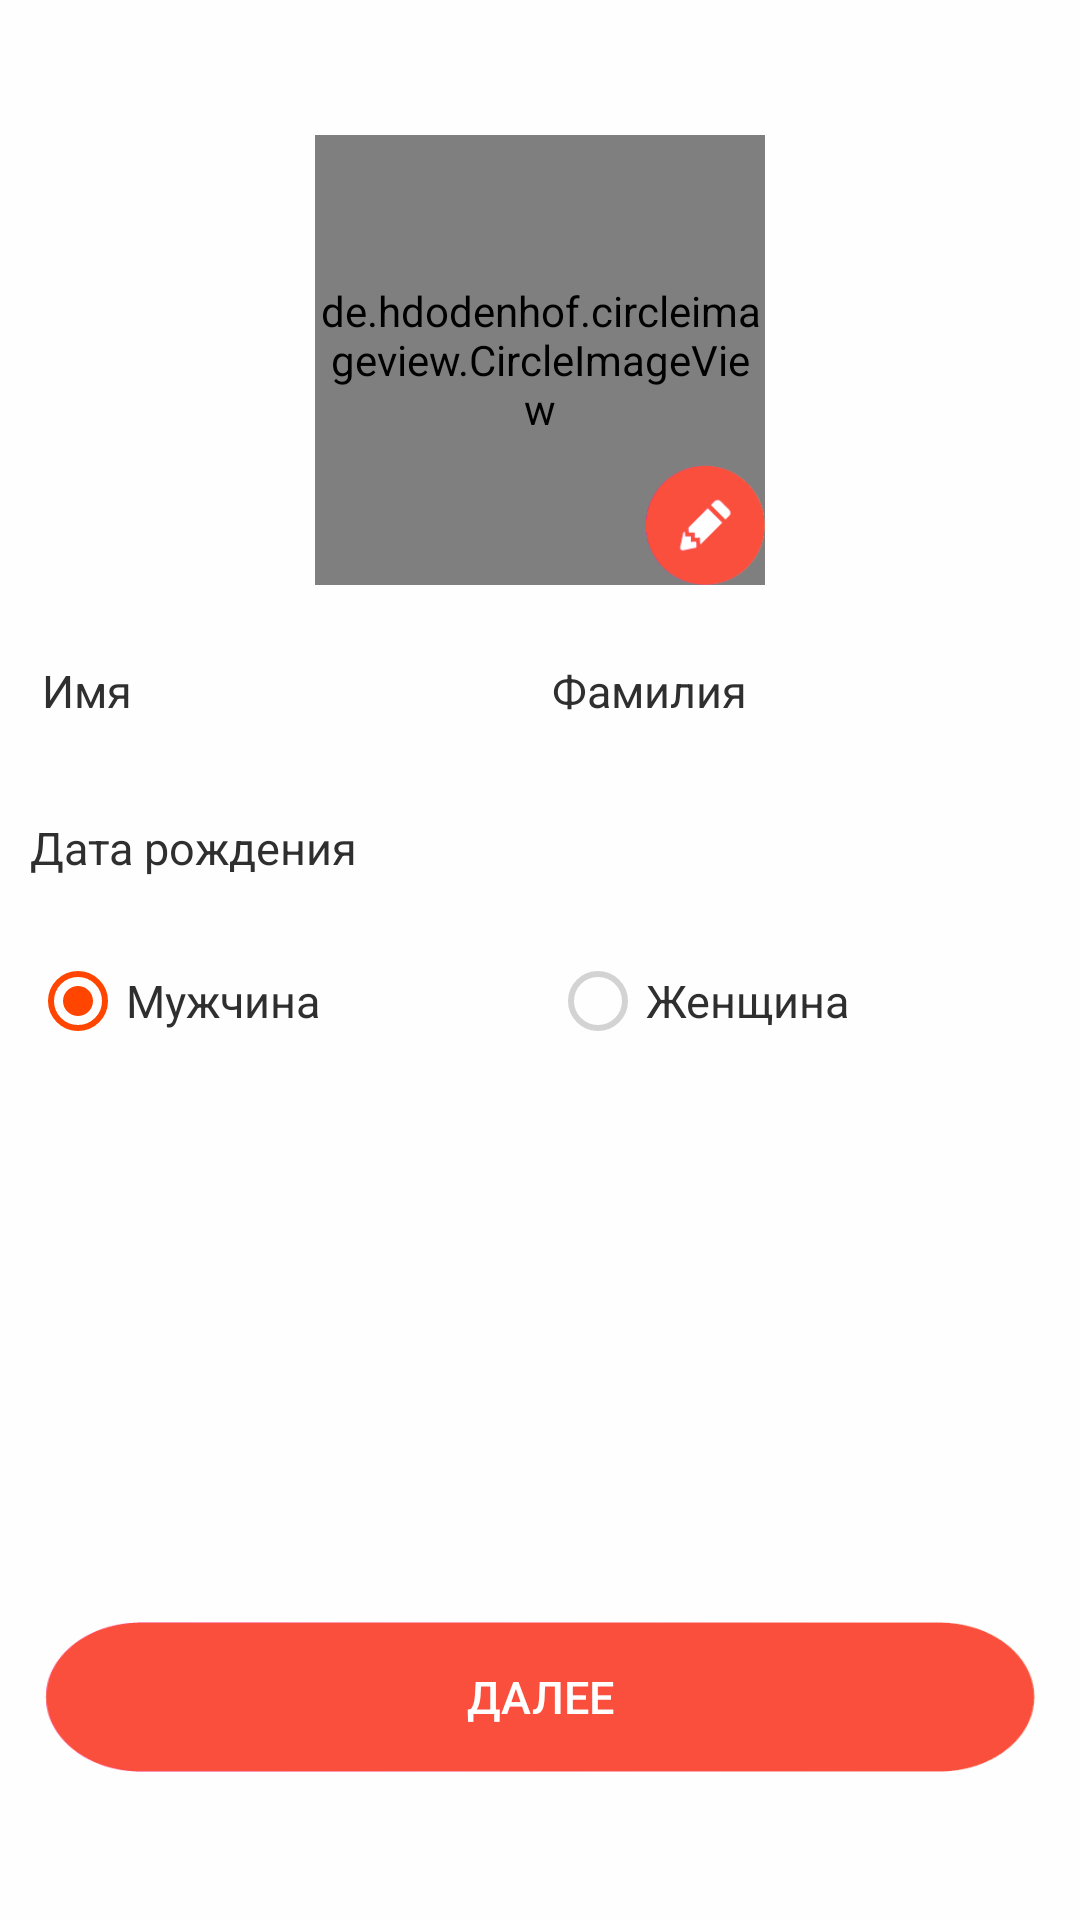

Locate icon controls on the screen. Image size 1080×1920, boxes as (x1, y1, x2, y2).
or round edit: (645, 465, 765, 585)
